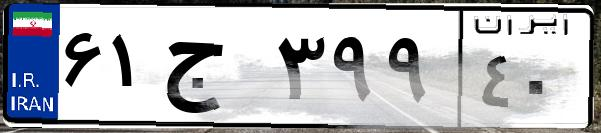0: (525, 38, 570, 115)
1: (110, 28, 158, 98)
3: (270, 28, 330, 110)
4: (475, 38, 525, 113)
6: (57, 26, 110, 100)
9: (385, 28, 445, 110), (330, 28, 385, 110)
ج: (158, 20, 270, 120)
